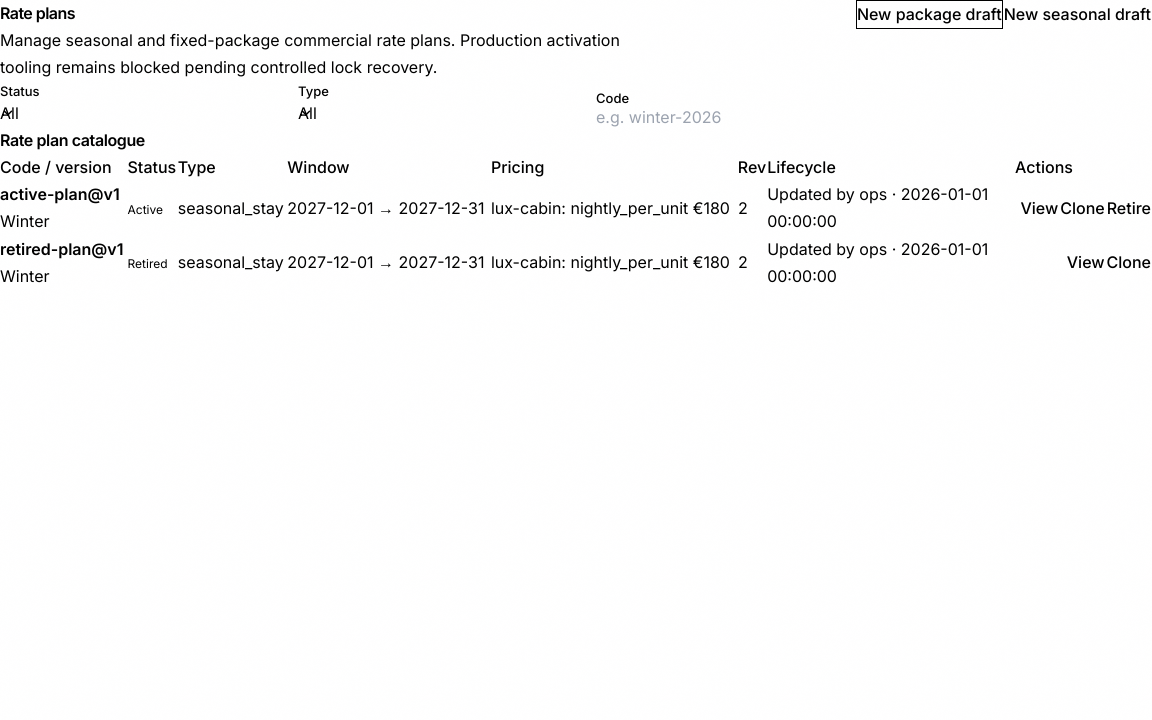
Scenario: OpsRatePlans › keeps active and retired plans read-only
Expected: the text "active-plan@v1" is shown, [0,181,128,208]
Click the button "View" in the row of "active-plan" at (1039, 208), box [1020,194,1059,223]
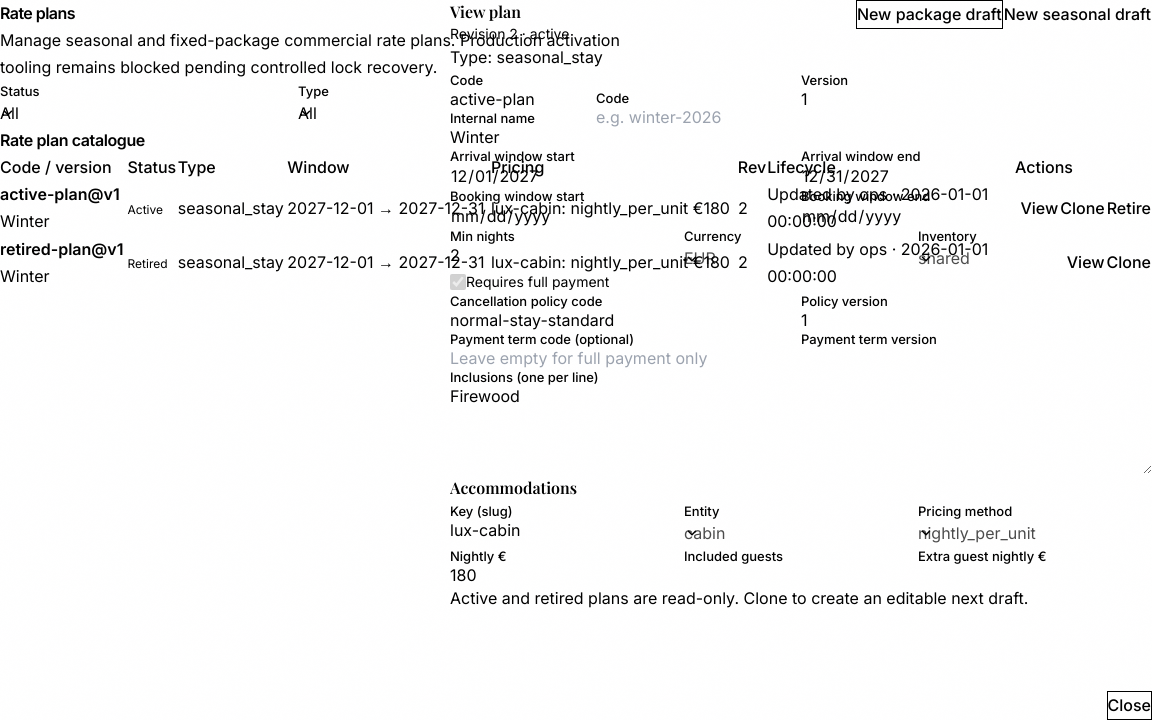
Expected: the text "read-only" is shown, [450,588,1028,608]
